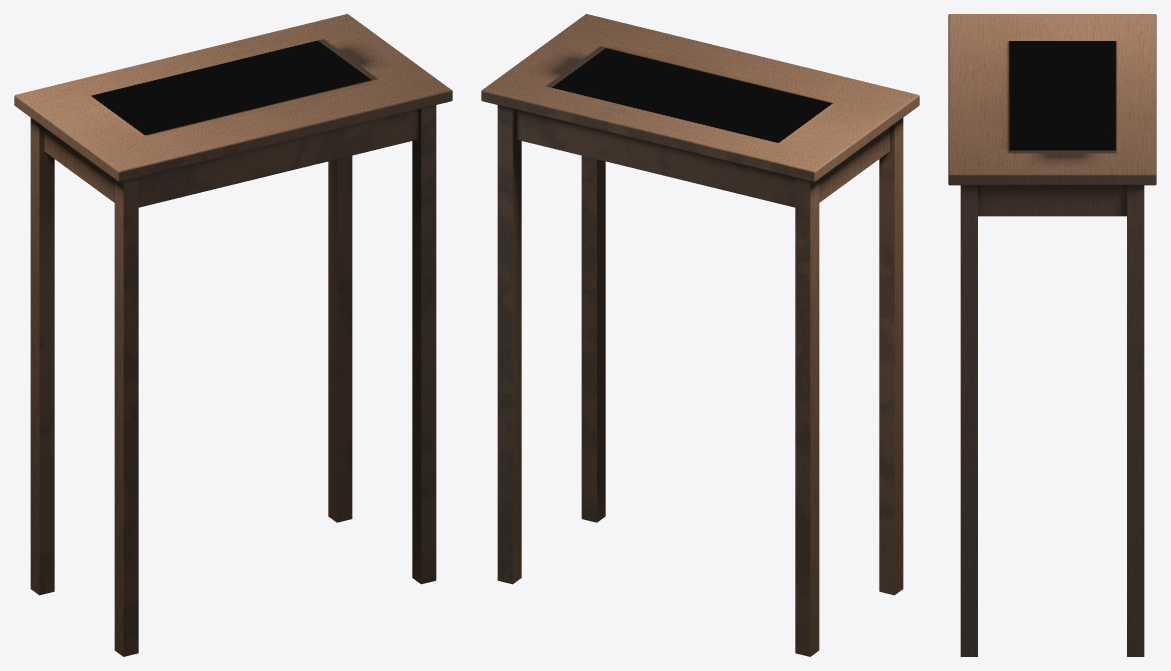
The model's file is 813_hook.glb.
3 renders of one model, left to right at view 1: azimuth 30°, elevation 25°; view 2: azimuth 150°, elevation 25°; view 3: azimuth 270°, elevation 25°, orthographic.
Visible parts, largest first — view 1: Table; view 2: Table; view 3: Table.
Part boxes in pixels (x1,y1,x2,y2): Table: [14, 14, 452, 656]; Table: [481, 14, 919, 656]; Table: [948, 14, 1156, 656].
Size of what is drawn, in the model's own units: 2.2 by 3.1 by 1.2.
1 material, 1 textured.
